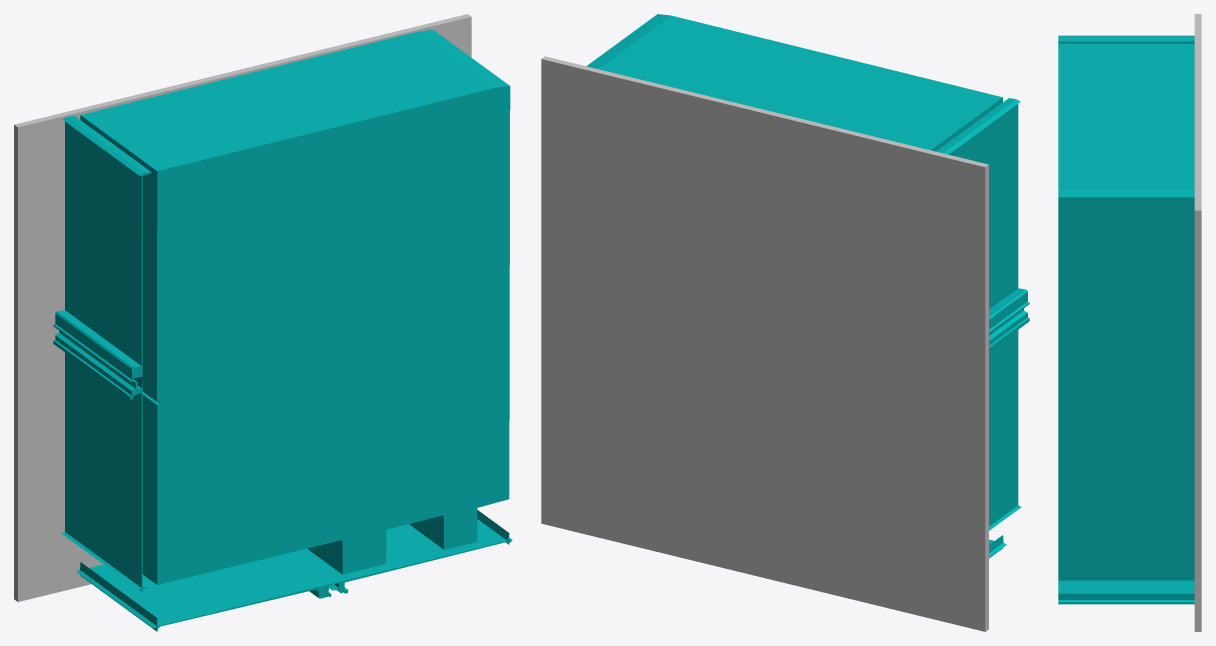
3 renders of one model, left to right at view 1: azimuth 30°, elevation 25°; view 2: azimuth 150°, elevation 25°; view 3: azimuth 270°, elevation 25°, orthographic. The views are drawn at different scales.
Visible parts, largest first — view 1: world; view 2: world; view 3: world.
Part boxes in pixels (<box>): world: <box>14,14,512,631</box>; world: <box>541,14,1029,631</box>; world: <box>1058,14,1201,631</box>.
Size of the model in its own units: 10.23 by 10.23 by 3.15.
